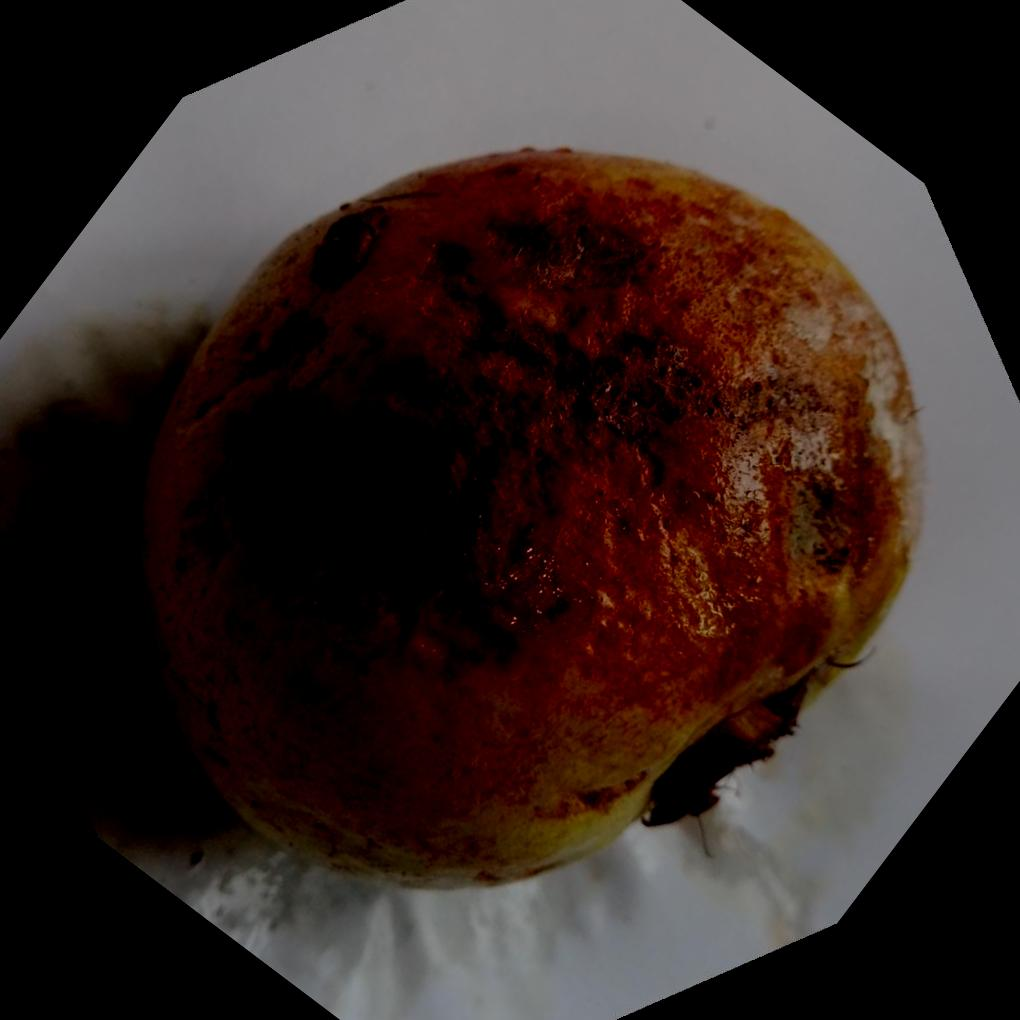FreshOrange: (129, 147, 928, 895)
